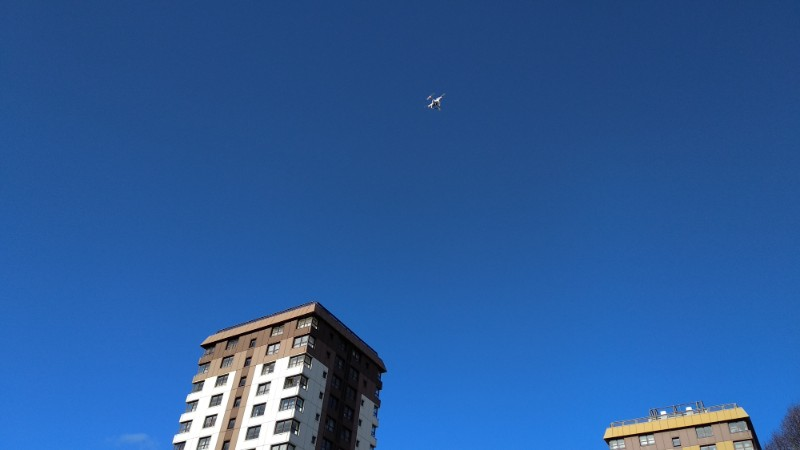drone: (422, 92, 447, 113)
